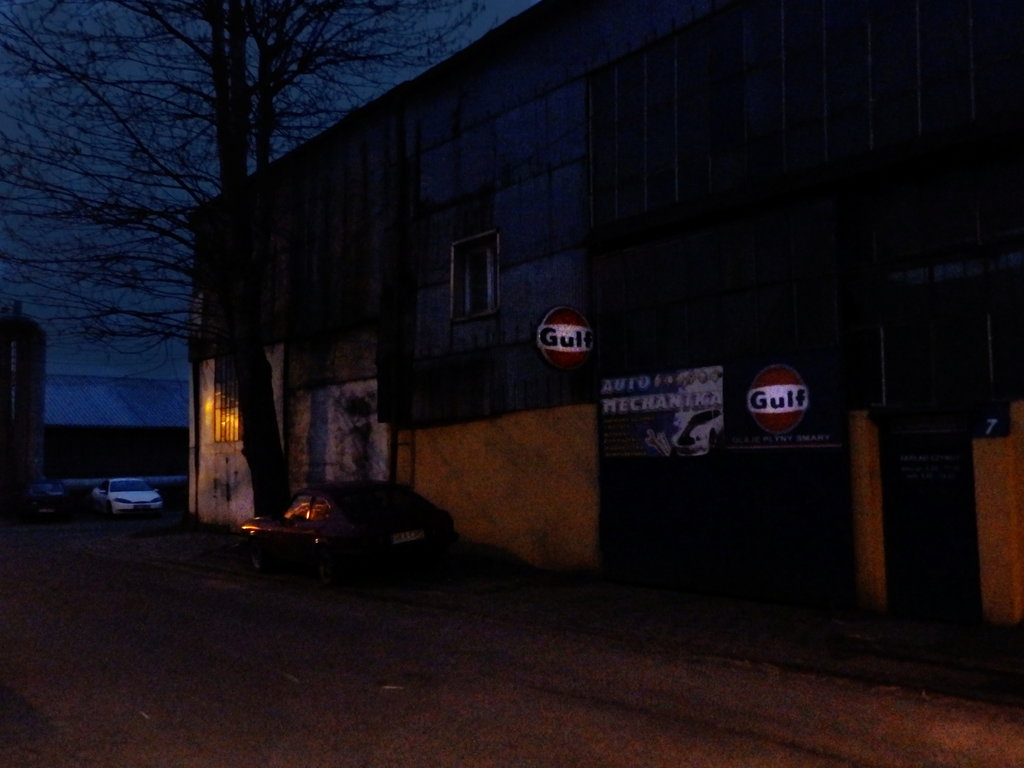car: (224, 474, 485, 601)
